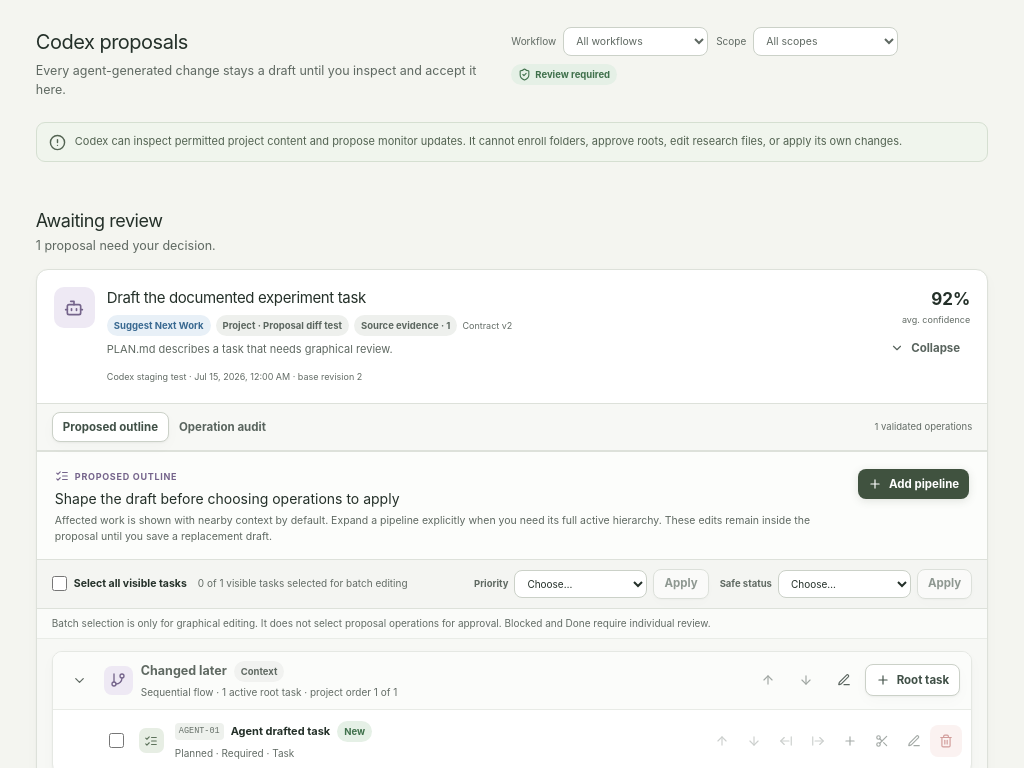
Scenario: ProposalsView immutable diffs › honors server-selected safe v2 operations while legacy drafts remain unselected
Click the tab "Operation audit" at {"x": 222, "y": 427}, box [169,412,276,442]
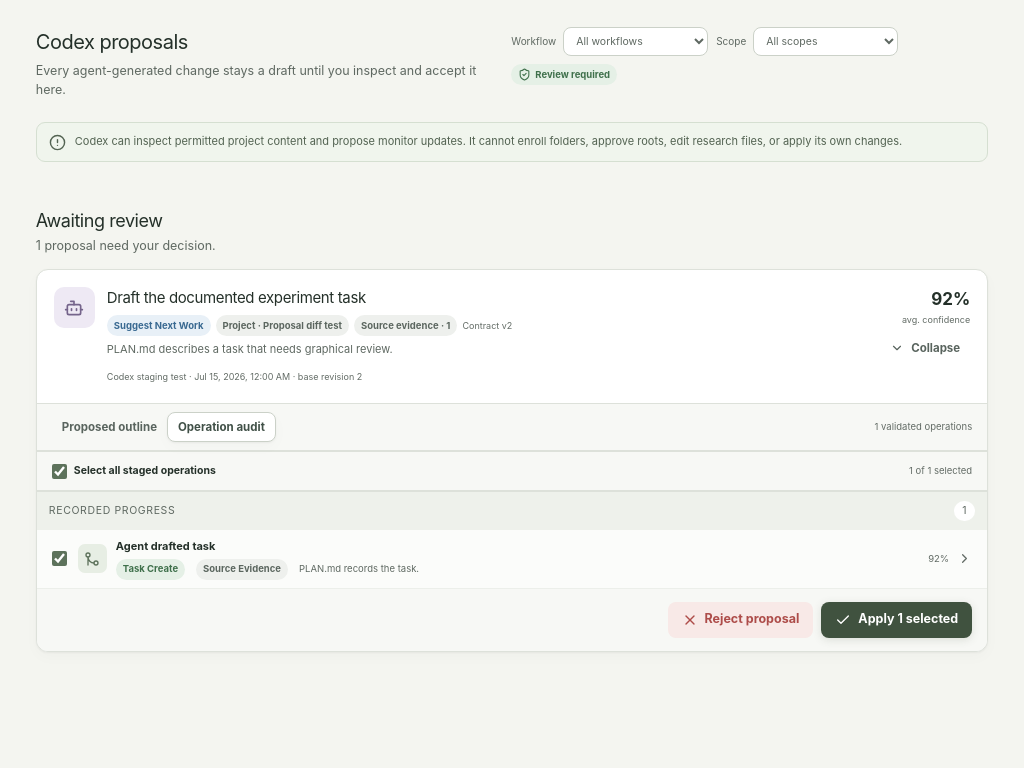
Expected: the button "Apply 1 selected" is enabled, [821,602,972,638]
Expected: the checkbox named "Select Agent drafted task (Task Create)" is checked, [52,551,67,566]
